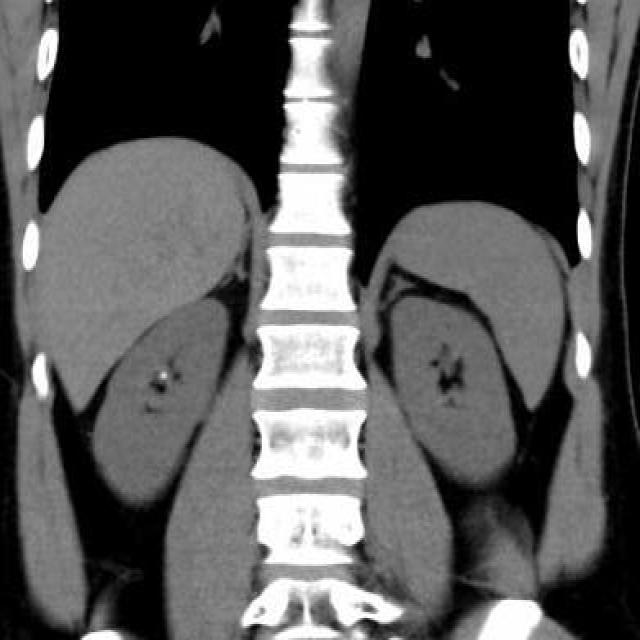Tas_Var: (160, 368, 168, 382)
